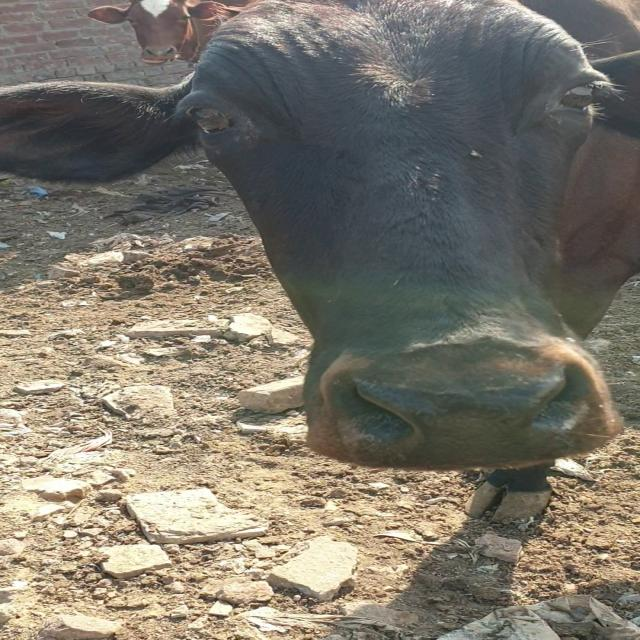cowFace: (200, 2, 634, 460), (111, 0, 197, 68)
